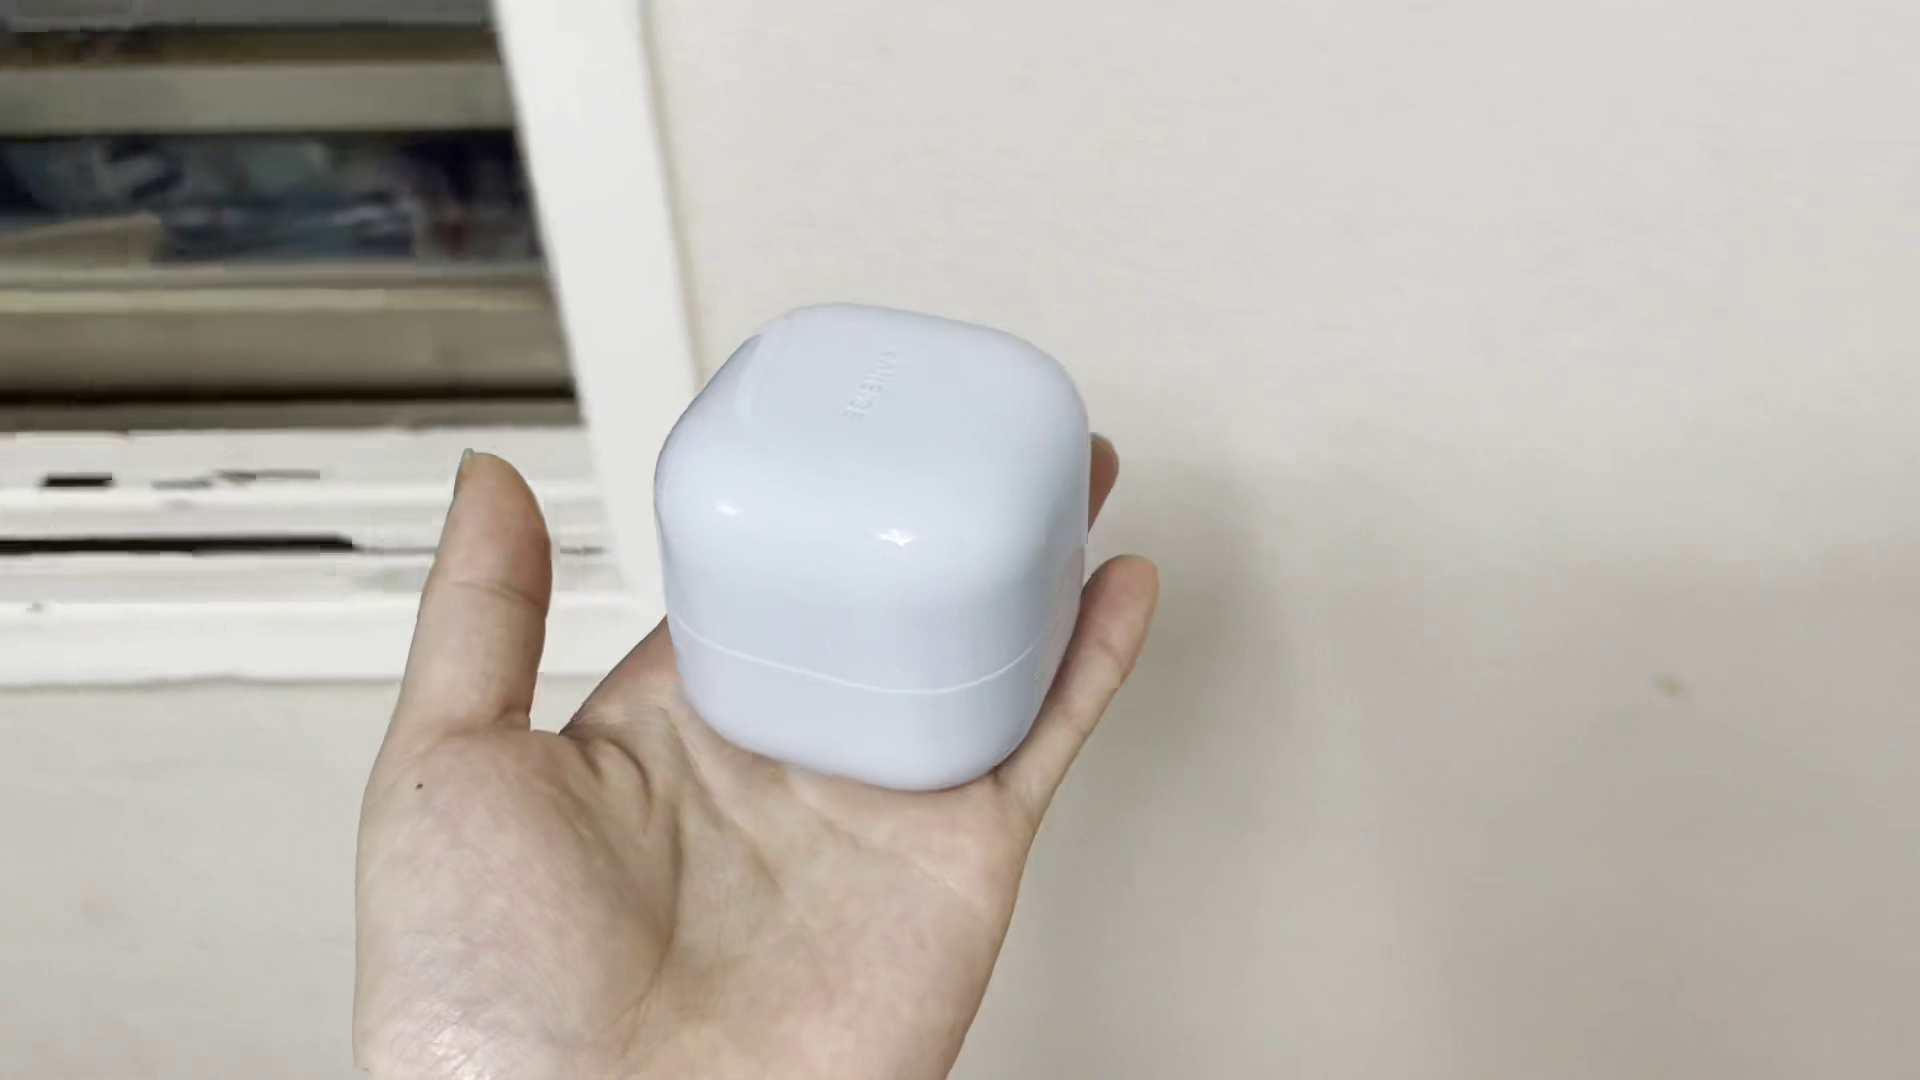cream: (654, 305, 1085, 789)
